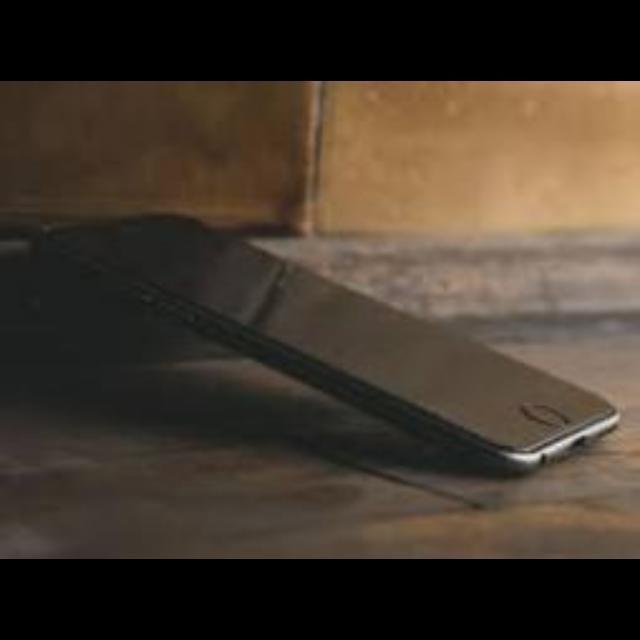phone: (58, 186, 630, 462)
